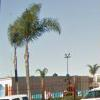Palm tree: (6, 3, 53, 73)
